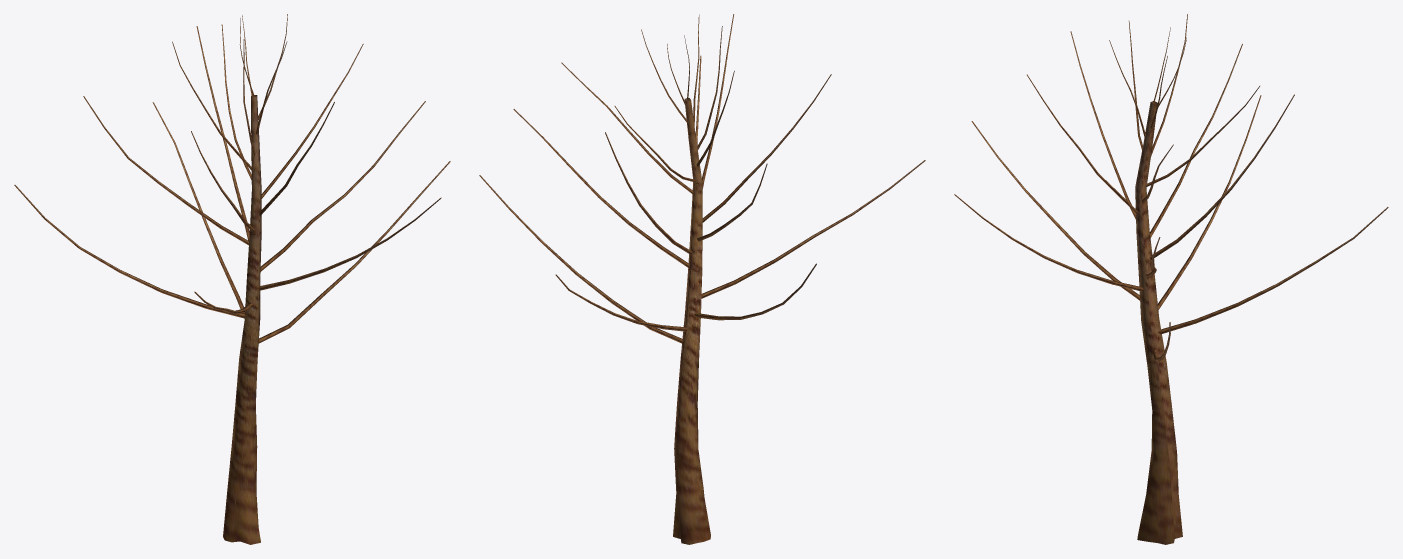
Rendered from drzewo1.FBX.
3 views of the same model, side by side, from view 1: azimuth 30°, elevation 25°; view 2: azimuth 150°, elevation 25°; view 3: azimuth 270°, elevation 25° (orthographic). The views are drawn at different scales.
Visible parts, largest first — view 1: drzewo; view 2: drzewo; view 3: drzewo.
Boxes of the visible parts, <box> form: drzewo: <box>14,14,450,544</box>; drzewo: <box>479,14,925,544</box>; drzewo: <box>954,14,1388,544</box>.
Size of the model in its own units: 1.54 by 1.49 by 1.94.
1 material, 1 textured.
